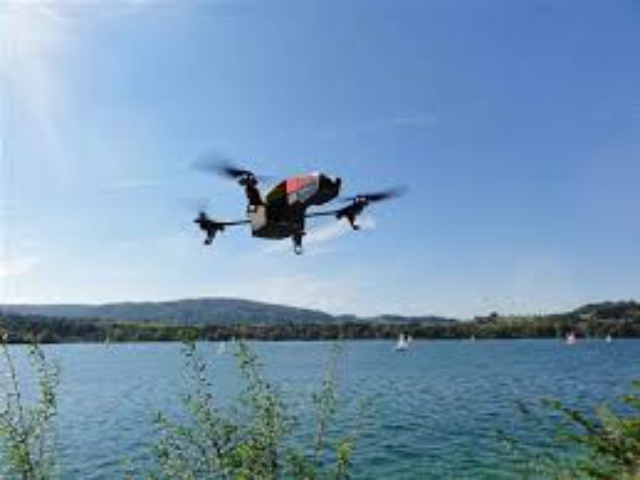drone: (182, 141, 409, 256)
